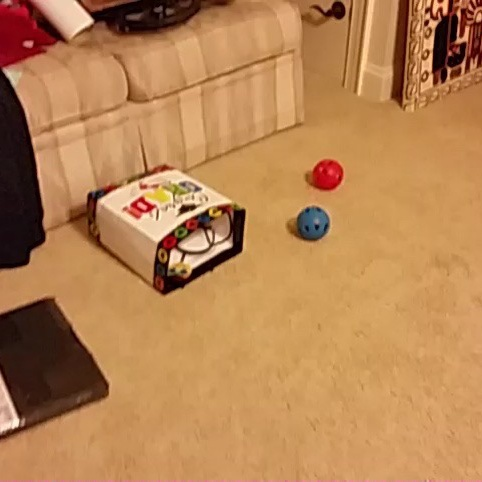blueball: (294, 203, 332, 242)
redball: (309, 156, 346, 191)
